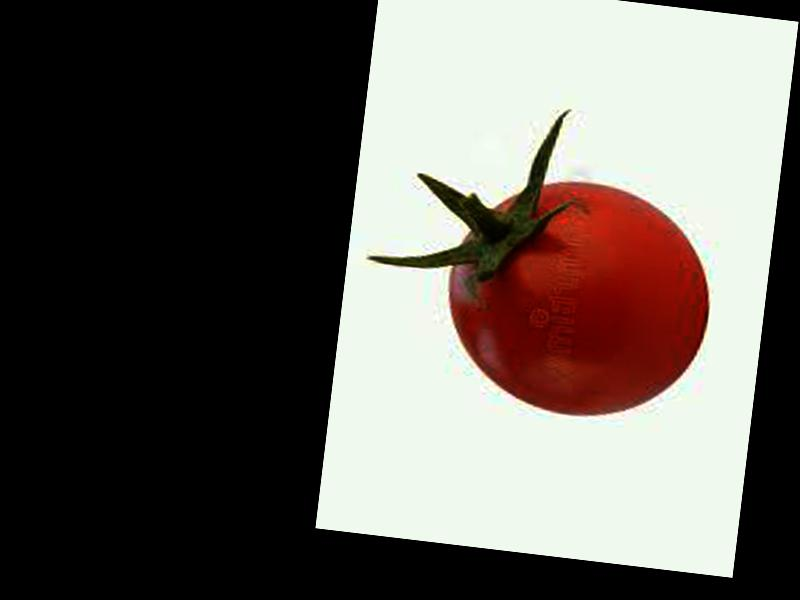Tomato: (437, 171, 722, 430)
